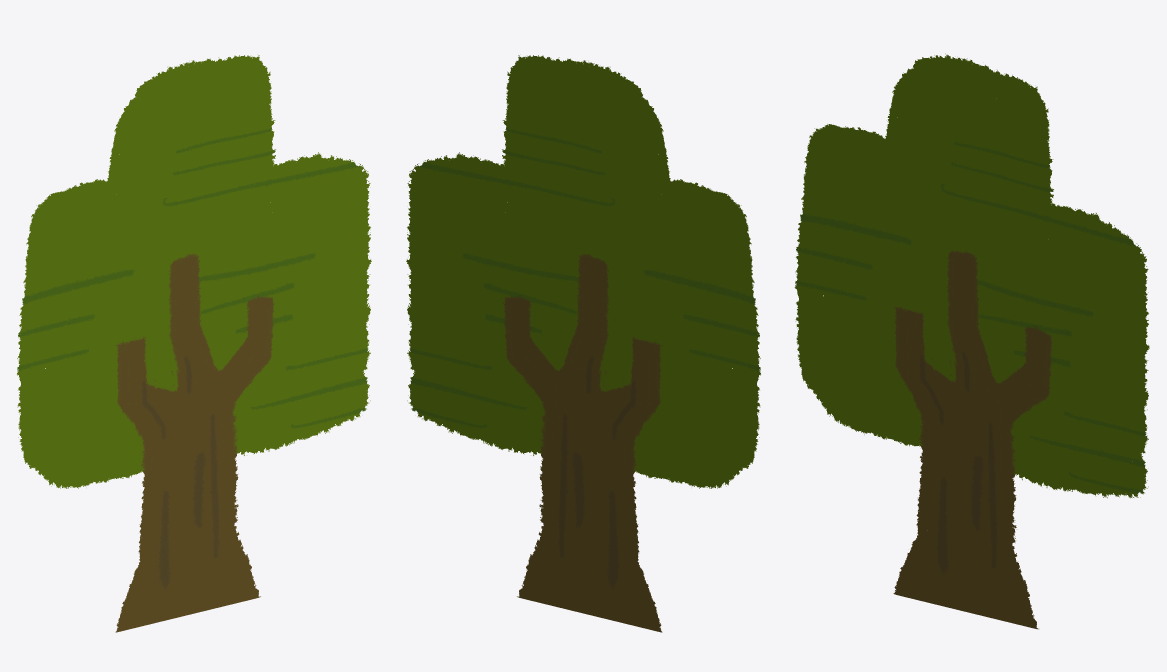
The model's file is 黄树大.fbx.
3 views of the same model, side by side, from view 1: azimuth 30°, elevation 25°; view 2: azimuth 150°, elevation 25°; view 3: azimuth 330°, elevation 25° (orthographic).
Parts seen in each view (by area): view 1: 平面; view 2: 平面; view 3: 平面.
Part boxes in pixels (x1,y1,x2,y2): 平面: [17, 55, 371, 632]; 平面: [406, 55, 760, 632]; 平面: [794, 53, 1149, 629].
Size of the model in its own units: 688 by 1014 by 2.87e-13.
Materials: 1 (1 with a texture image).
